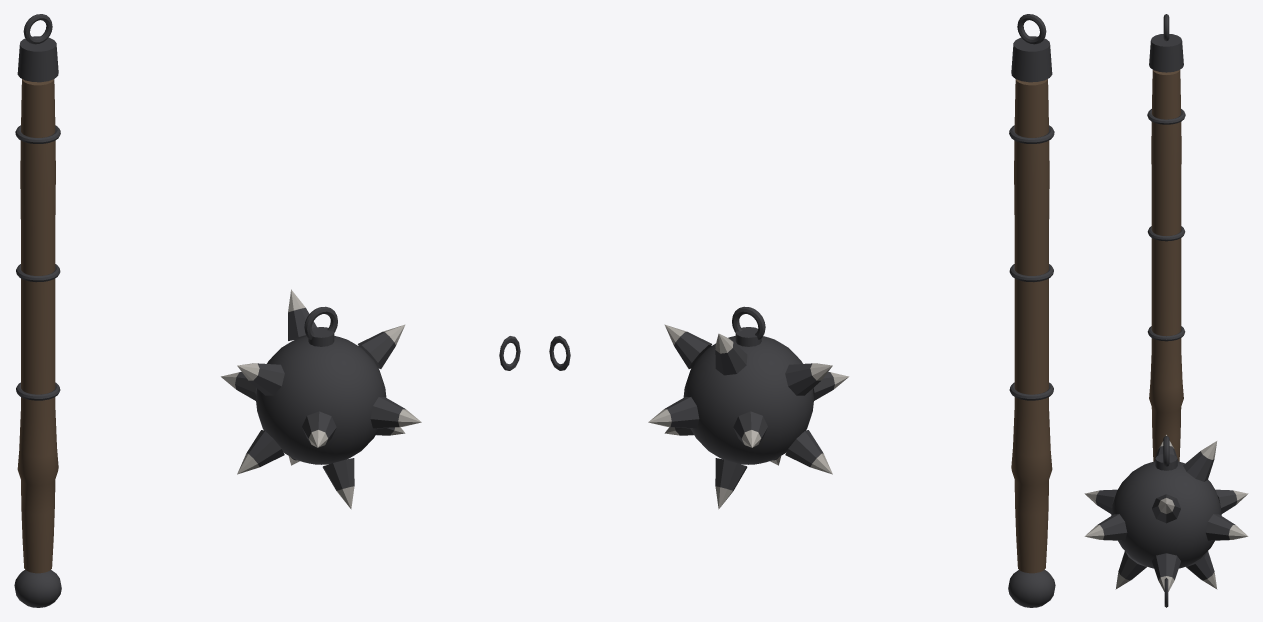
Rendered from flail.glb.
3 renders of one model, left to right at view 1: azimuth 30°, elevation 25°; view 2: azimuth 150°, elevation 25°; view 3: azimuth 270°, elevation 25°, orthographic. The views are drawn at different scales.
Parts seen in each view (by area): view 1: Haft, Ball; view 2: Haft, Ball; view 3: Ball, Haft.
Boxes of the visible parts, x1,y1,x2,y2 form: Haft: (14, 14, 61, 607); Ball: (221, 289, 421, 509); Haft: (1008, 14, 1055, 607); Ball: (648, 306, 848, 509); Ball: (1084, 434, 1248, 591); Haft: (1147, 14, 1185, 461).
Size of the model in its own units: 0.5326 by 0.5987 by 0.1786.
